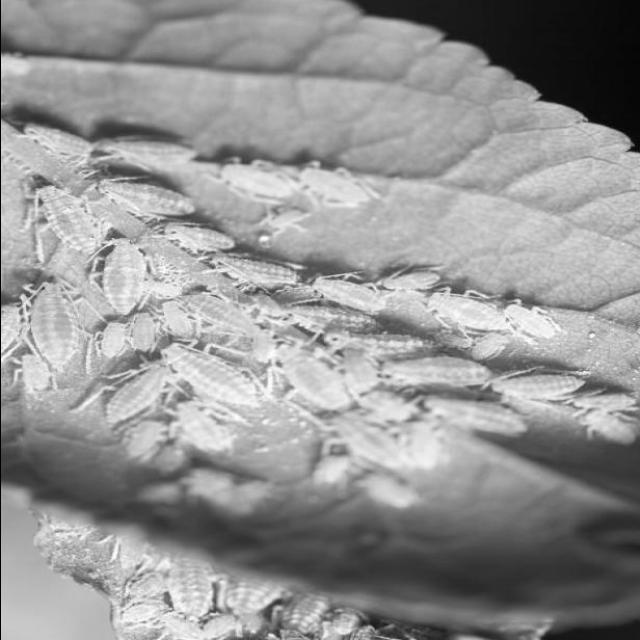Aphids: (0, 119, 640, 474)
